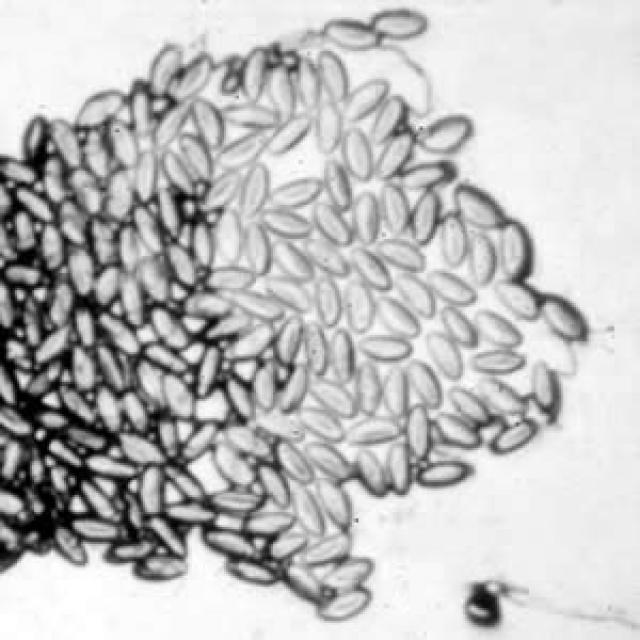Enterobius Vermicularis: (451, 180, 511, 232), (494, 213, 536, 284), (414, 111, 476, 156), (364, 90, 411, 149), (324, 318, 363, 388), (354, 324, 420, 363), (338, 125, 381, 184), (541, 292, 588, 342), (266, 115, 314, 158), (316, 47, 350, 104)
